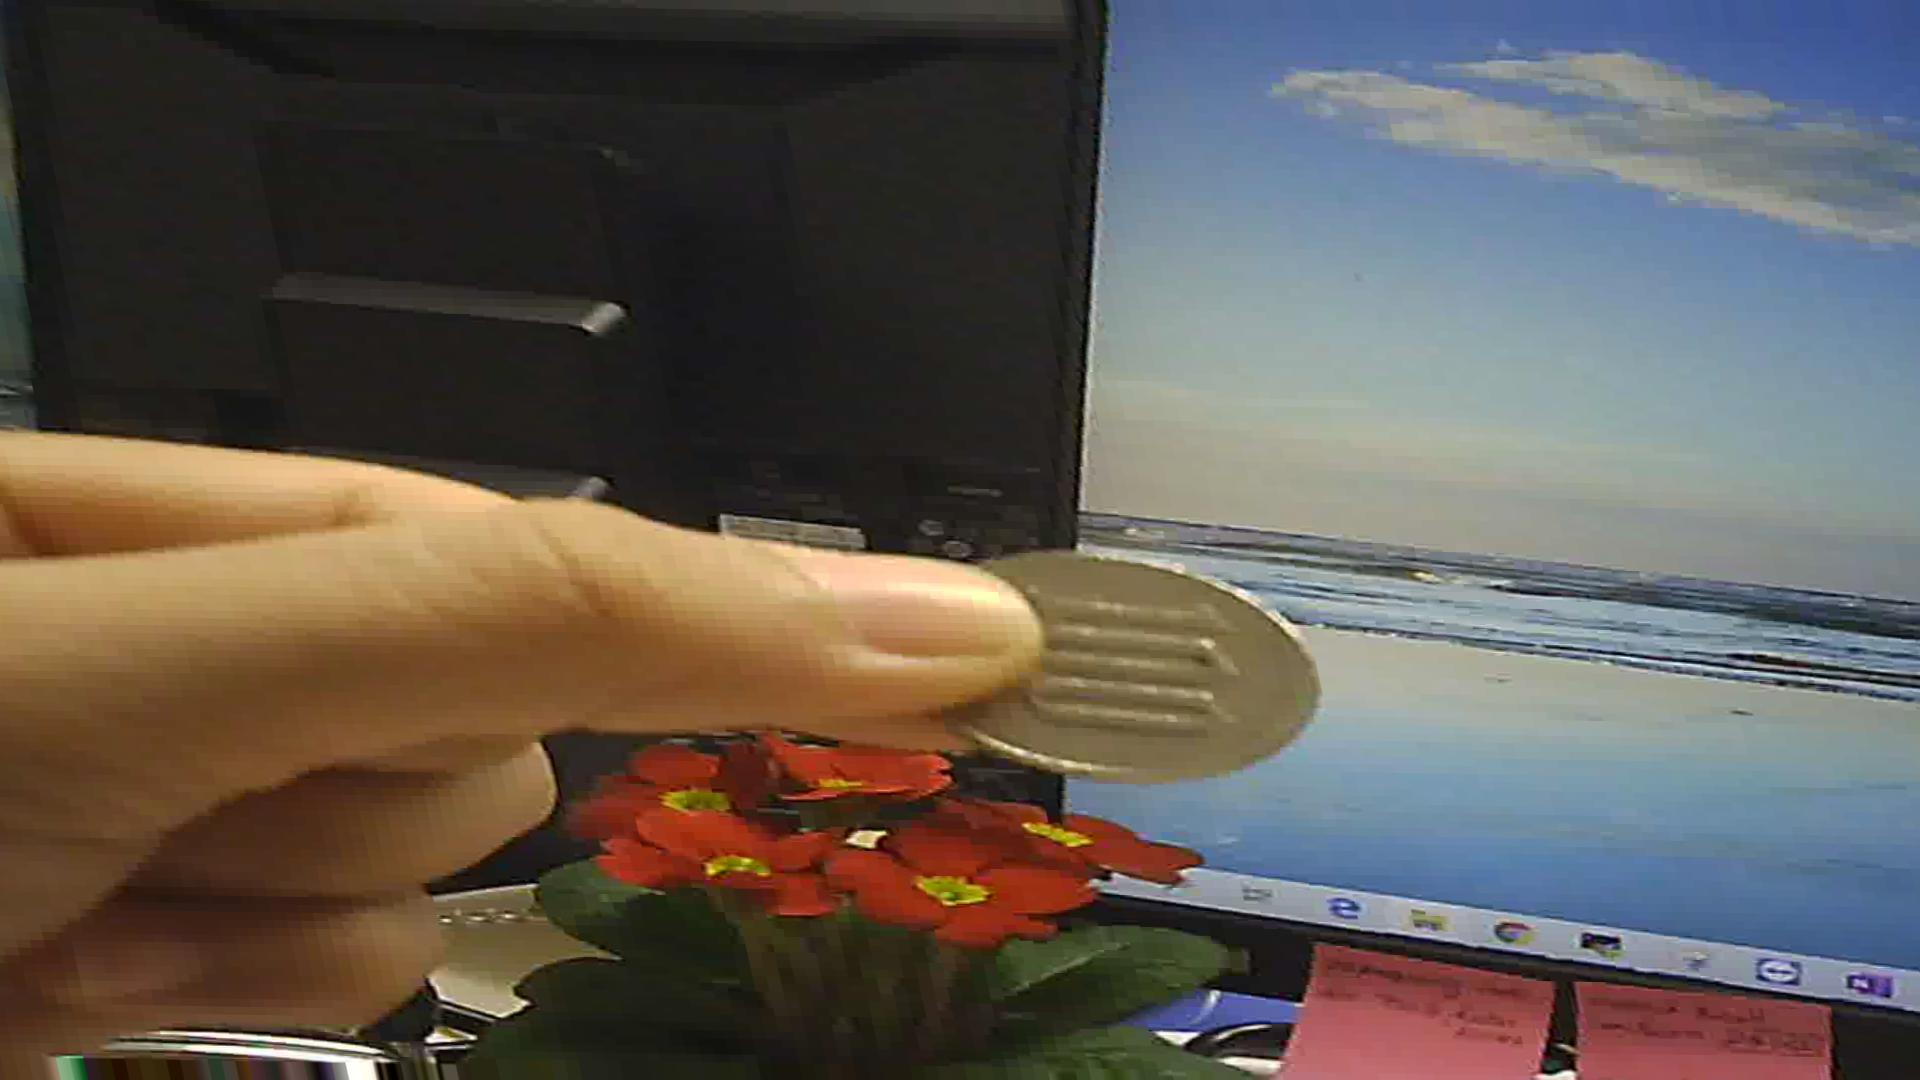100 Yen: (927, 538, 1323, 812)
